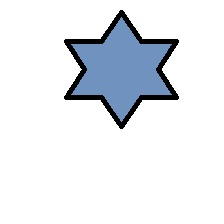star: (64, 10, 179, 129)
